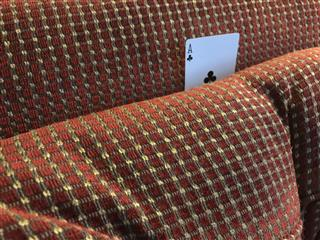AceOfClubs: (184, 32, 239, 89)
